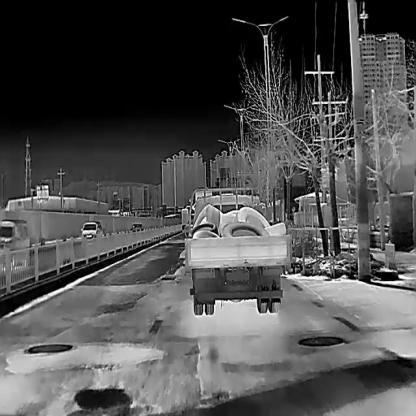car: (184, 187, 290, 316), (0, 217, 29, 275), (81, 220, 102, 244), (130, 223, 144, 236)
